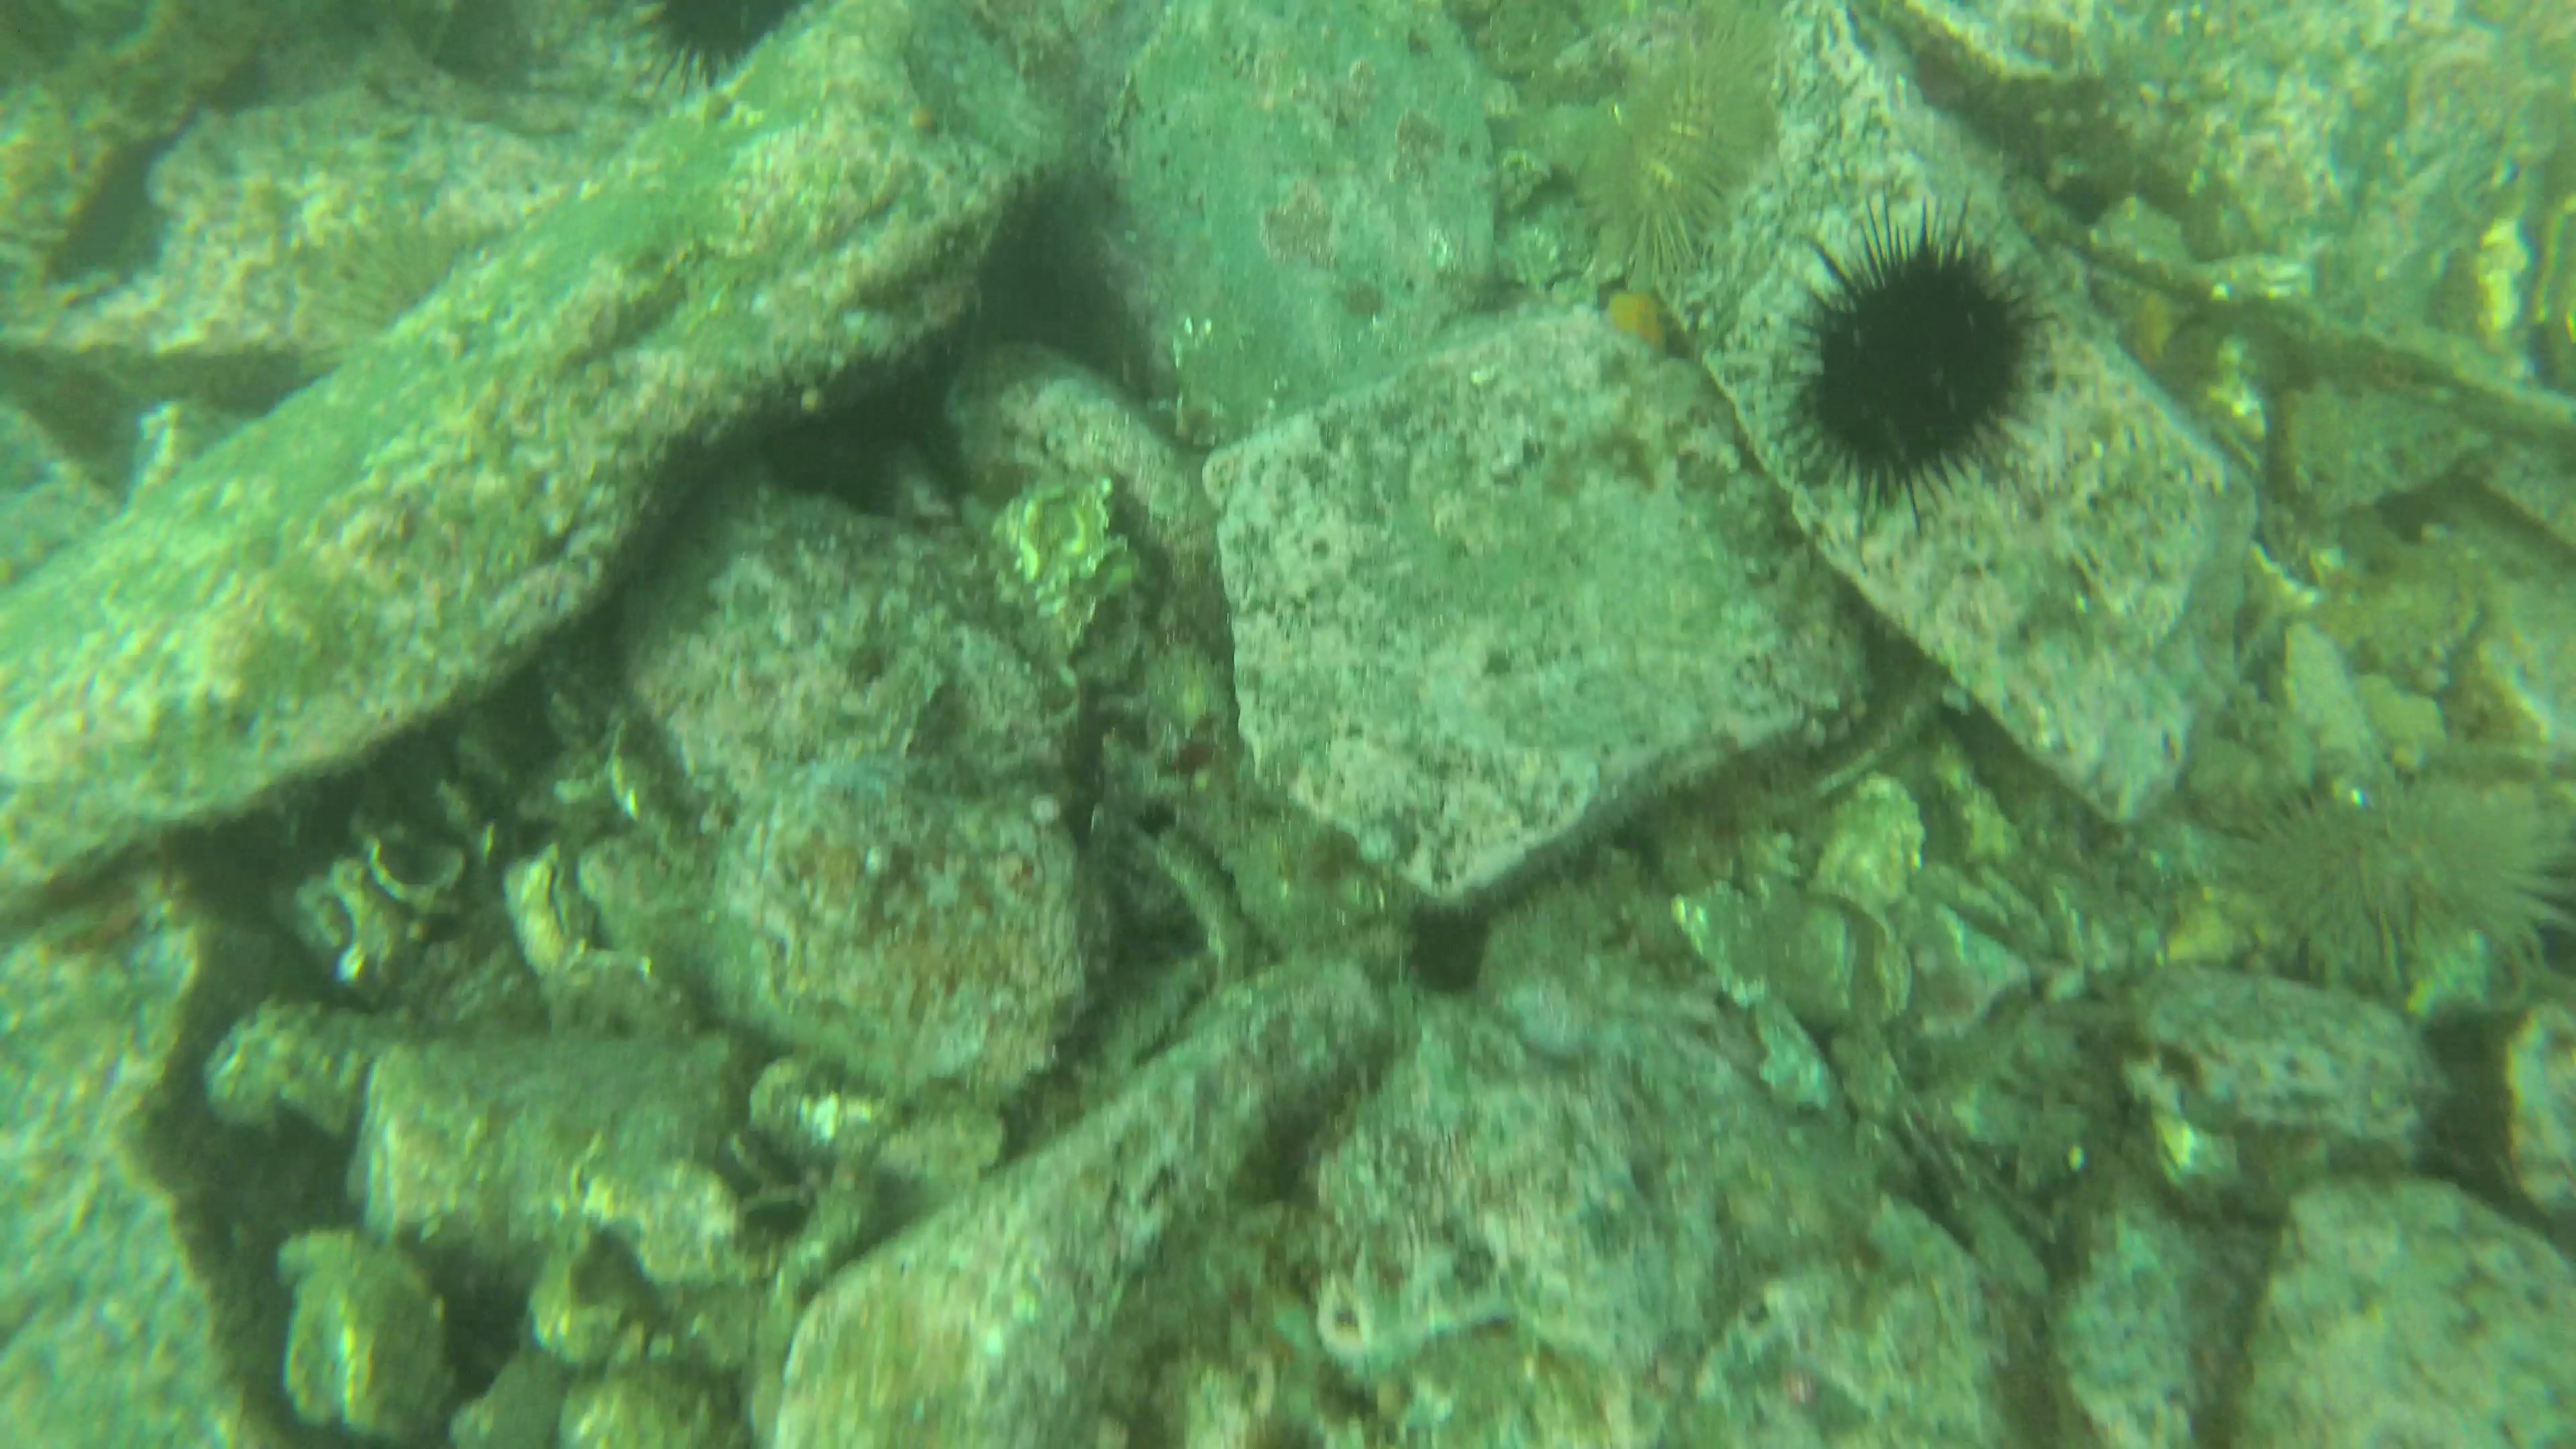echinus: (2229, 763, 2576, 1010), (1769, 219, 2054, 520), (1589, 14, 1796, 274), (294, 214, 511, 380), (619, 0, 819, 104)
